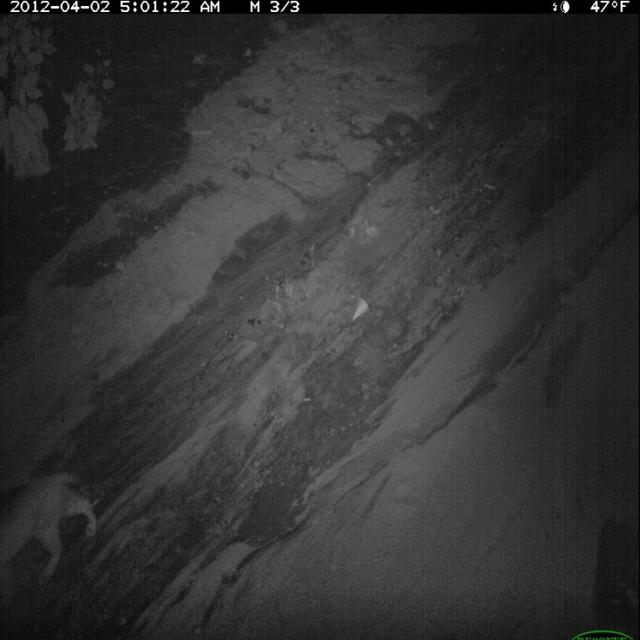bobcat: (1, 468, 102, 586)
